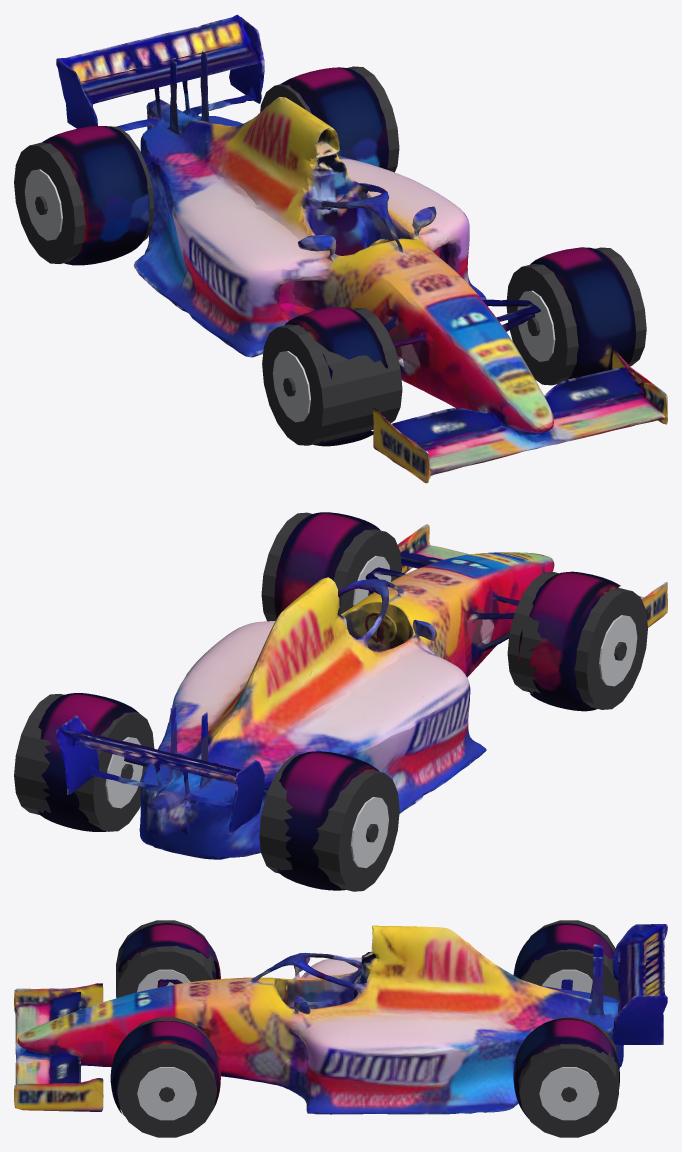
The model's file is indycar3.glb.
3 renders of one model, top to bottom at view 1: azimuth 30°, elevation 25°; view 2: azimuth 150°, elevation 25°; view 3: azimuth 270°, elevation 25°, orthographic. The views are drawn at different scales.
Visible parts, largest first — view 1: panel_bumper_f, panel_trunk, body, panel_hood, wheel_front_L, panel_bumper_r, panel_roof, susp_rear_L, susp_front_L, susp_front_R, wheel_front_R, panel_door_L (+7 smaller); view 2: panel_trunk, panel_bumper_r, body, panel_hood, panel_bumper_f, wheel_rear_L, wheel_front_L, panel_door_L, wheel_rear_R, panel_roof, susp_front_L, wheel_front_R (+8 smaller); view 3: panel_trunk, body, panel_bumper_f, panel_hood, panel_door_R, panel_bumper_r, panel_roof, wheel_rear_R, wheel_front_R, susp_front_R, susp_rear_R, wheel_front_L (+6 smaller).
Boxes of the visible parts, x1=… form: panel_bumper_f: x1=349, y1=283, x2=662, y2=472; panel_trunk: x1=43, y1=14, x2=392, y2=288; body: x1=190, y1=172, x2=462, y2=319; panel_hood: x1=287, y1=233, x2=626, y2=359; wheel_front_L: x1=262, y1=308, x2=402, y2=445; panel_bumper_r: x1=64, y1=66, x2=386, y2=258; panel_roof: x1=262, y1=98, x2=436, y2=249; susp_rear_L: x1=42, y1=141, x2=225, y2=343; susp_front_L: x1=217, y1=268, x2=487, y2=483; susp_front_R: x1=433, y1=227, x2=667, y2=434; wheel_front_R: x1=506, y1=247, x2=646, y2=385; panel_door_L: x1=182, y1=220, x2=263, y2=346; panel_trunk: x1=38, y1=606, x2=402, y2=815; panel_bumper_r: x1=40, y1=703, x2=350, y2=859; body: x1=198, y1=597, x2=460, y2=724; panel_hood: x1=283, y1=512, x2=620, y2=677; panel_bumper_f: x1=280, y1=545, x2=644, y2=674; wheel_rear_L: x1=259, y1=754, x2=399, y2=891; wheel_front_L: x1=507, y1=572, x2=647, y2=709; panel_door_L: x1=388, y1=668, x2=477, y2=793; wheel_rear_R: x1=14, y1=694, x2=154, y2=831; panel_roof: x1=287, y1=577, x2=436, y2=681; susp_front_L: x1=458, y1=582, x2=667, y2=770; wheel_front_R: x1=261, y1=512, x2=401, y2=621; panel_trunk: x1=423, y1=923, x2=667, y2=1113; body: x1=255, y1=959, x2=437, y2=1097; panel_bumper_f: x1=15, y1=944, x2=214, y2=1115; panel_hood: x1=123, y1=923, x2=271, y2=1084; panel_door_R: x1=313, y1=1036, x2=437, y2=1114; panel_bumper_r: x1=477, y1=943, x2=663, y2=1091; panel_roof: x1=258, y1=925, x2=438, y2=1012; wheel_rear_R: x1=519, y1=1017, x2=618, y2=1137; wheel_front_R: x1=117, y1=1017, x2=216, y2=1137; susp_front_R: x1=14, y1=1035, x2=347, y2=1114; susp_rear_R: x1=307, y1=1030, x2=619, y2=1118; wheel_front_L: x1=116, y1=920, x2=215, y2=998.
Size of the model in its own units: 1.92 by 1.03 by 4.
Materials: 3 (1 with a texture image).
